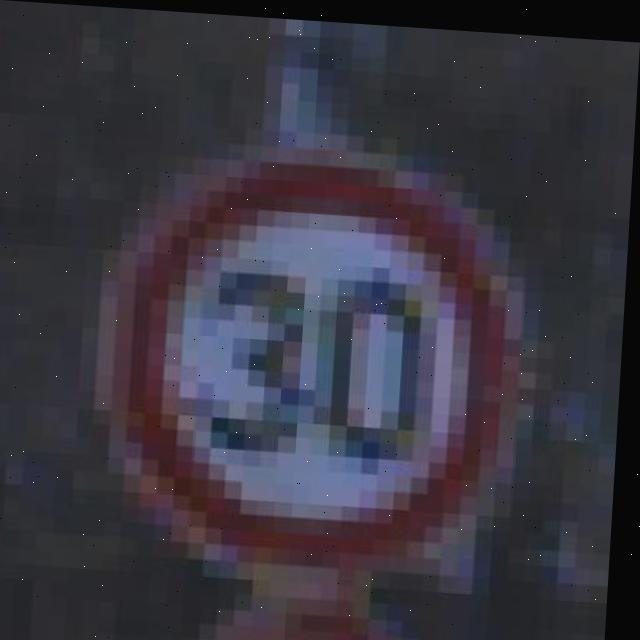Speed limit 30: (118, 136, 527, 587)
